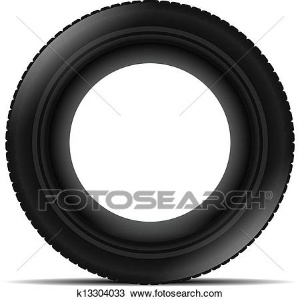tire: (4, 3, 294, 280)
